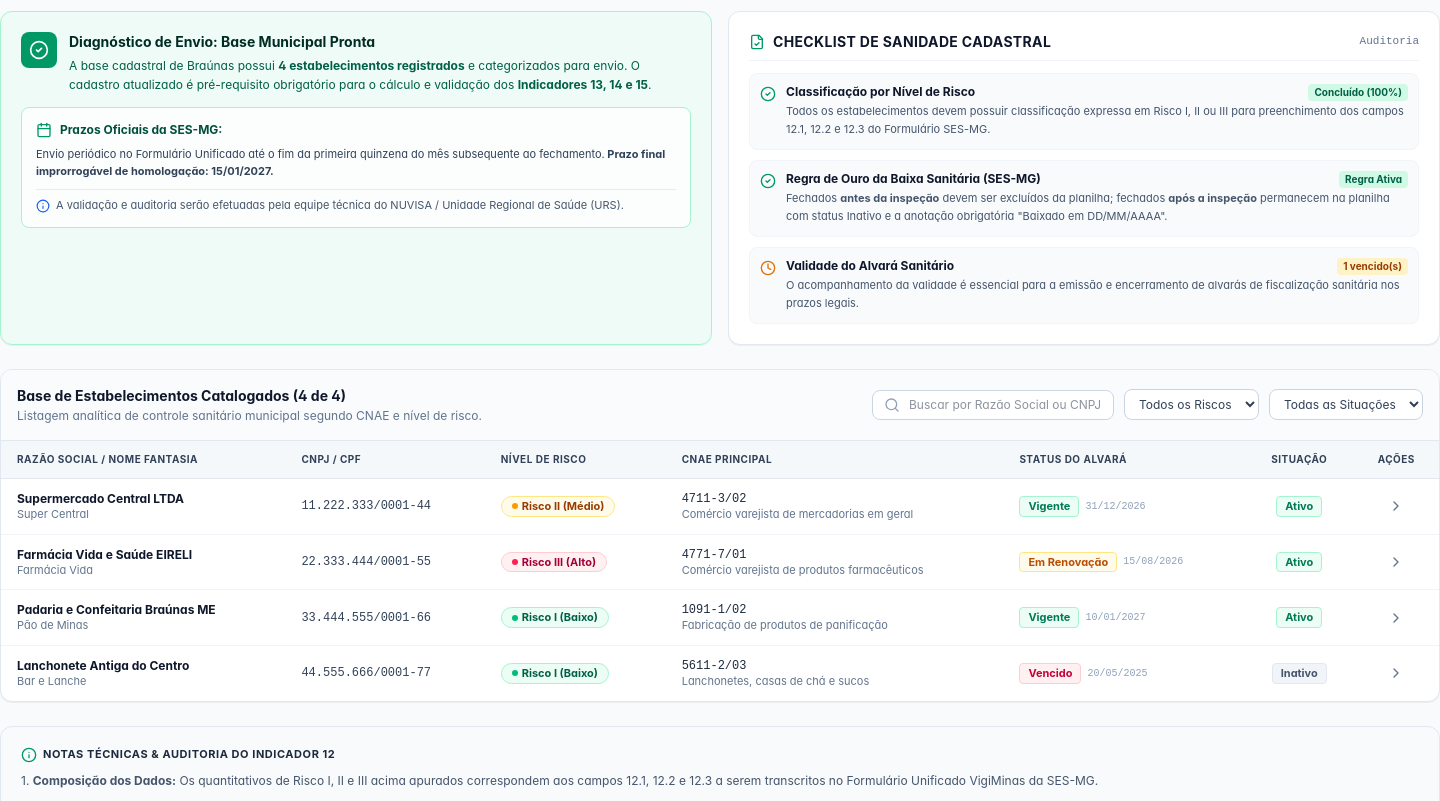
Test: RelatorioIndicador12Page (US-03 - Indicador 12 VISA) › renderiza a tabela analítica e permite busca por Razão Social
(page scrolled)
Expected: the text "Supermercado Central LTDA" is shown, left=17, top=491, right=184, bottom=506
Expected: the text "Farmácia Vida e Saúde EIRELI" is shown, left=17, top=547, right=192, bottom=562
Filtrar por busca
In the field with placeholder "Buscar por Razão Social ou CNPJ...": (993, 405) left=872, top=390, right=1114, bottom=420, type "Farmácia"
(page scrolled)
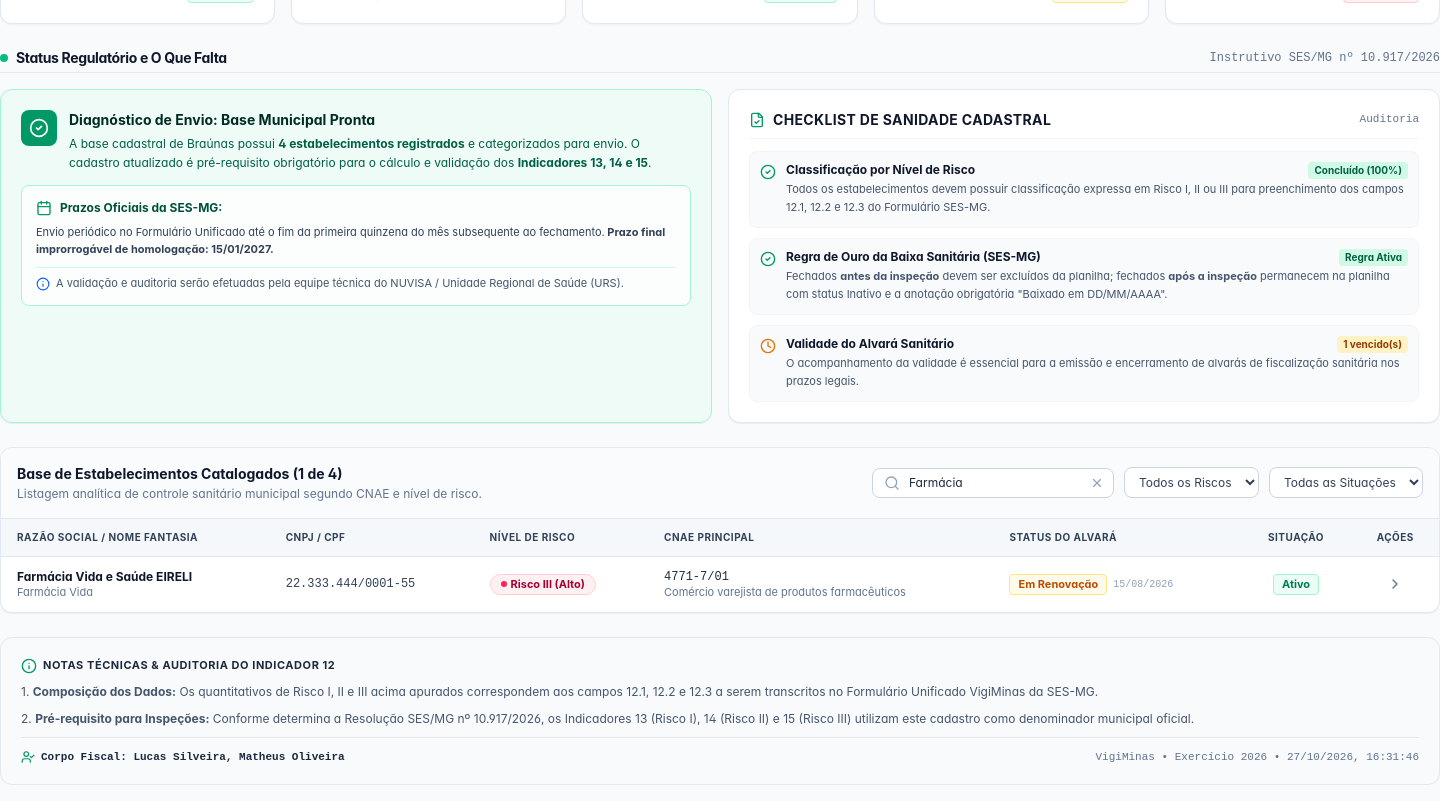
Expected: the text "Farmácia Vida e Saúde EIRELI" is shown, left=17, top=569, right=192, bottom=584
Expected: the text "Supermercado Central LTDA" is gone
